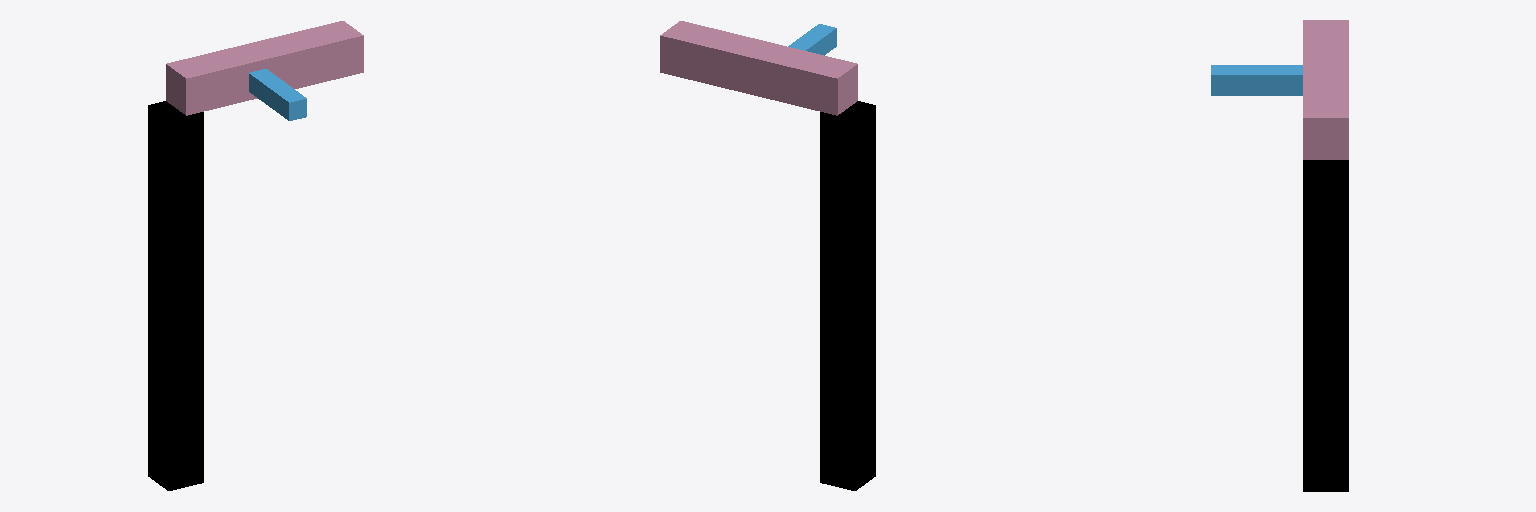
URDF robot description (rt_robot):
<robot name="rt_robot">
  <link name="basis">
    <inertial>
      <origin xyz="0 0 0.5" rpy="0 0 0"/>
      <mass value="1"/>
      <inertia ixx="1"  ixy="0"  ixz="0" iyy="1" iyz="0" izz="100" />
    </inertial>
    <visual>
      <origin xyz="0 0 0.5" rpy="0 0 0" />
      <geometry>
        <box size="0.1 0.1 1" />
      </geometry>
      <material name="black">
        <color rgba="0 0 0 1.0"/>
      </material>
    </visual>
    <collision>
      <origin xyz="0 0 0.5" rpy="0 0 0"/>
      <geometry>
        <box size="0.1 0.1 1" />
      </geometry>
    </collision>
  </link>
  <link name="body1">
    <inertial>
      <origin xyz="0.25 0 0" rpy="0 0 0"/>
      <mass value="0.5"/>
      <inertia ixx="25"  ixy="0"  ixz="0" iyy="1" iyz="0" izz="1" />
    </inertial>
    <visual>
      <origin xyz="0.25 0 0" rpy="0 0 0" />
      <geometry>
        <box size="0.5 0.1 0.1" />
      </geometry>
      <material name="reddishpurple">
        <color rgba="0.8 0.6 0.7 1.0"/>
      </material>
    </visual>
    <collision>
      <origin xyz="0.25 0 0" rpy="0 0 0"/>
      <geometry>
        <box size="0.5 0.1 0.1" />
      </geometry>
    </collision>
  </link>
  <link name="body2">
    <inertial>
      <origin xyz="0 -0.1 0" rpy="0 0 0"/>
      <mass value="0.5"/>
      <inertia ixx="1"  ixy="0"  ixz="0" iyy="10" iyz="0" izz="1" />
    </inertial>
    <visual>
      <origin xyz="0 -0.1 0" rpy="0 0 0" />
      <geometry>
        <box size="0.05 0.2 0.05" />
      </geometry>
      <material name="skyblue">
        <color rgba="0.35 0.7 0.9 1.0"/>
      </material>
    </visual>
    <collision>
      <origin xyz="0 -0.1 0" rpy="0 0 0"/>
      <geometry>
        <box size="0.05 0.2 0.05" />
      </geometry>
    </collision>
  </link>
  <joint name="dof1" type="continuous">
    <origin xyz="0 0 1.05" rpy="0 0 0"/>
    <parent link="basis" />
    <child link="body1" />
    <axis xyz="0 0 1" />
  </joint>
  <joint name="dof2" type="prismatic">
    <origin xyz="0.2 -0.05 0" rpy="0 0 0"/>
    <parent link="body1" />
    <child link="body2" />
    <axis xyz="1 0 0" />
    <limit lower="0.0" upper="0.25"/>
  </joint>
</robot>

--- Render facts (derived) ---
The picture shows the robot from 3 angles, left to right: view 1: azimuth 30°, elevation 25°; view 2: azimuth 150°, elevation 25°; view 3: azimuth 270°, elevation 25°; orthographic projection.
Model rt_robot with 3 links and 2 joints (1 continuous, 1 prismatic), rooted at basis, posed every joint at zero.
Links seen in each view (by area): view 1: basis, body1, body2; view 2: basis, body1, body2; view 3: basis, body1, body2.
Link boxes in pixels (x1,y1,x2,y2): basis: (148, 101, 203, 490); body1: (166, 21, 363, 115); body2: (249, 69, 306, 120); basis: (820, 101, 875, 490); body1: (660, 21, 857, 115); body2: (788, 24, 836, 55); basis: (1303, 160, 1348, 491); body1: (1303, 20, 1348, 159); body2: (1211, 65, 1302, 95).
Size in the robot's own frame: 0.55 by 0.3 by 1.1 metres.
Geometry: primitives only (box / cylinder / sphere), no mesh files.